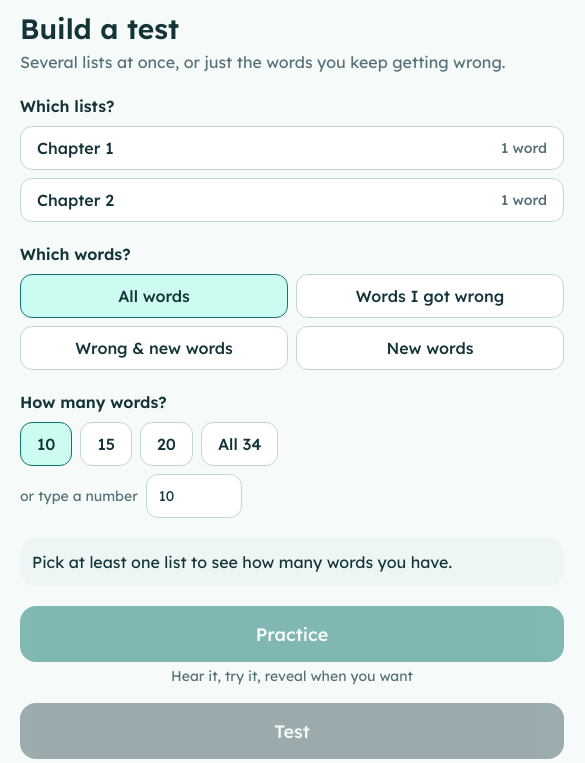
the pool › shows how many words the selection has, and in which direction
What coordinates should you click on to do the following:
click the button "Chapter 1 1 word"
I would click on:
 (75, 148)
Its box is [20,126,564,170].
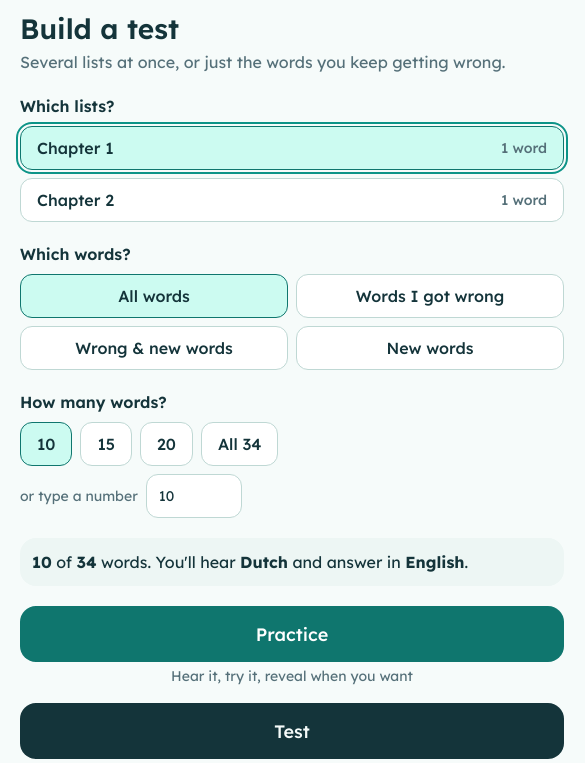
Now the message shows "34", box [77,552,97,572]
Now the message shows "Dutch", box [240,552,288,572]
Now the message shows "English", box [405,552,464,572]
